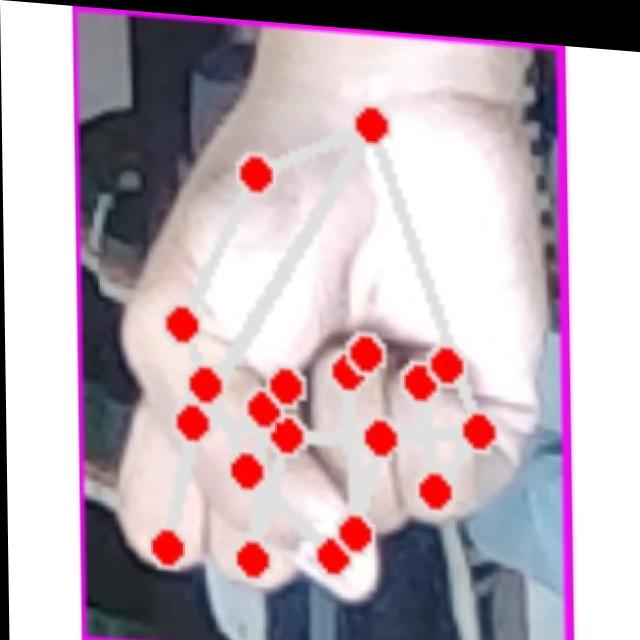S: (100, 56, 552, 625)
